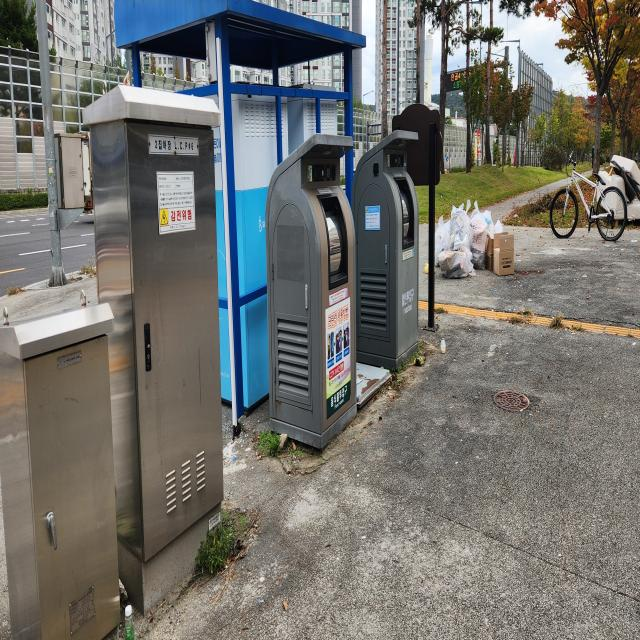CleanNet: (268, 132, 362, 442), (355, 128, 424, 377)
Large Waste Items: (551, 135, 628, 249)
